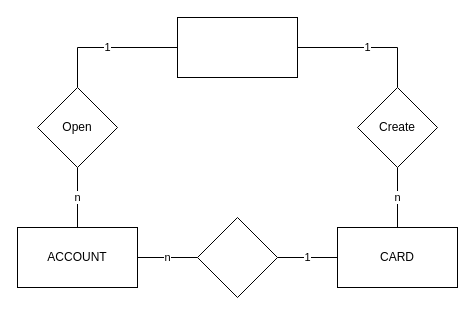
This 475x315 diagram has some shape labels left out. The centre of each missing label's shape, as x and y in pixels:
Link: the point at 237,257
PERSON: the point at 237,47
